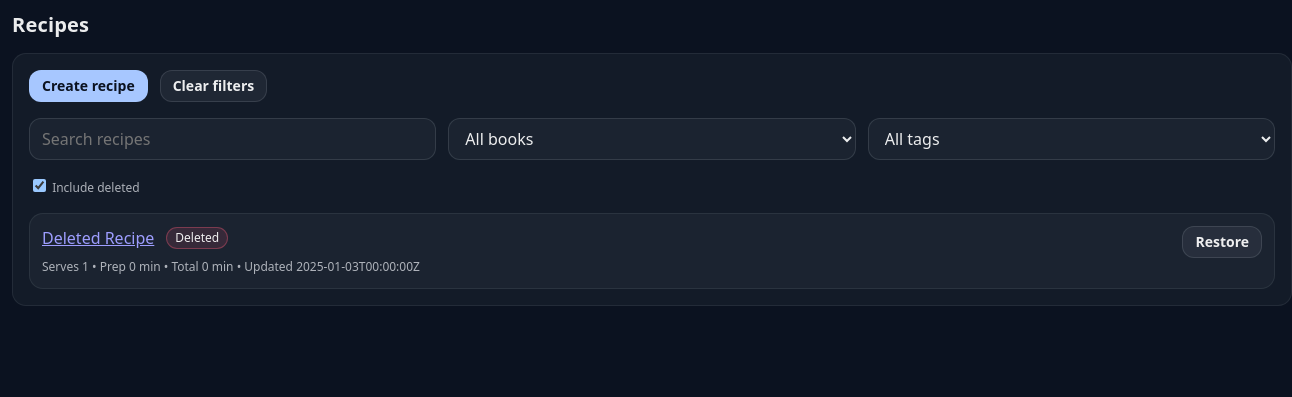
RecipeListPage › shows error when restore fails
Expected: the link "Deleted Recipe" is shown, [42,226,154,250]
Click the button "Restore" at (1222, 242), box [1182,226,1262,258]
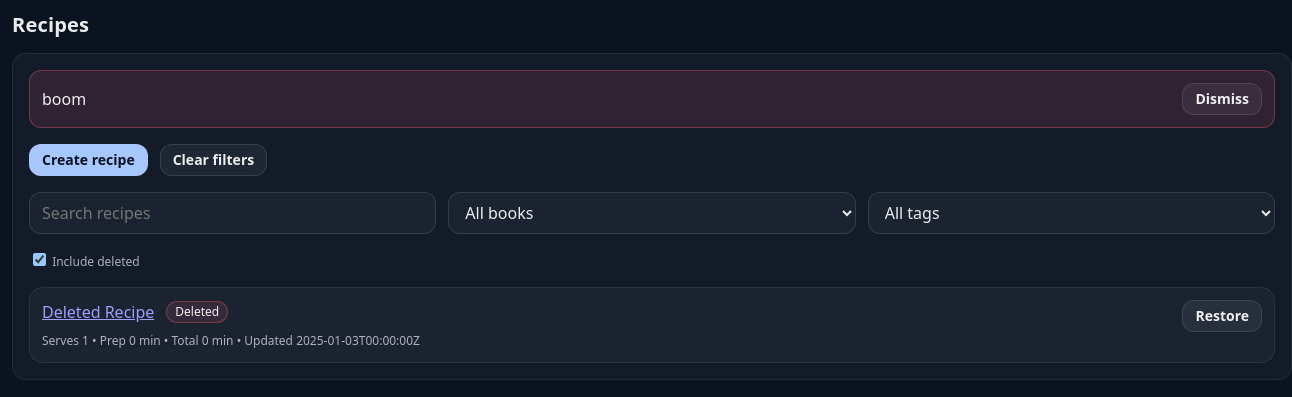
Expected: the message shows "boom", [42,88,86,110]
Click the button "Dismiss" at (1222, 99), box [1182,83,1262,115]
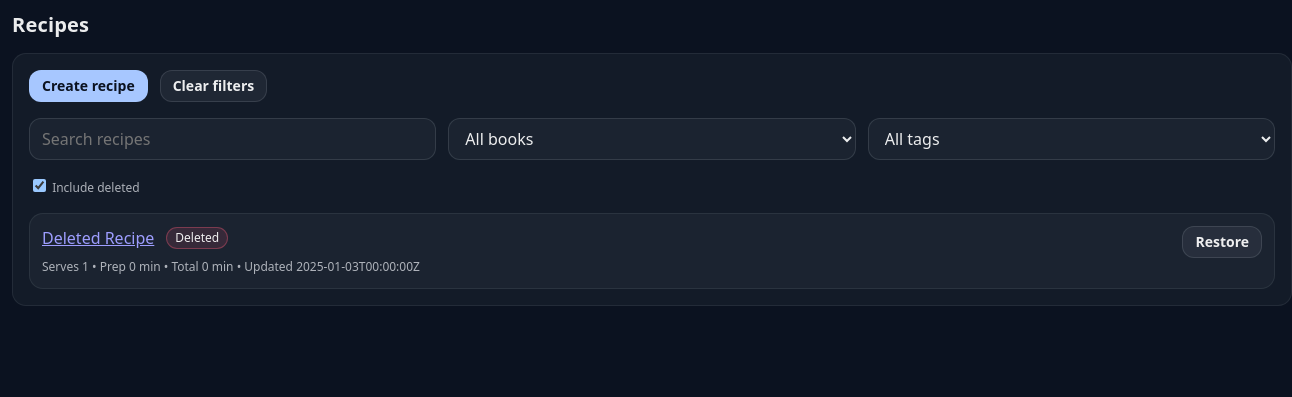
Expected: the text "boom" is gone
